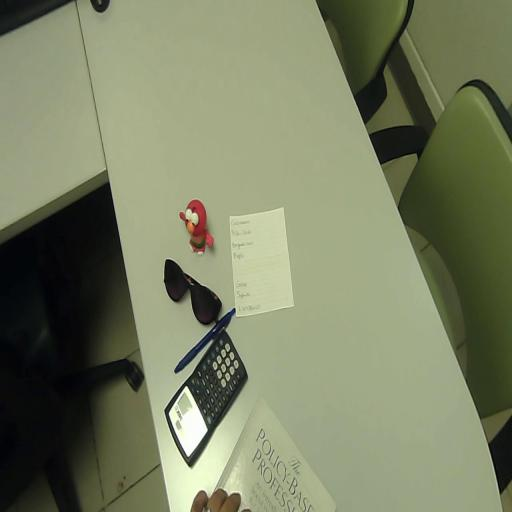pen: (174, 308, 235, 373)
